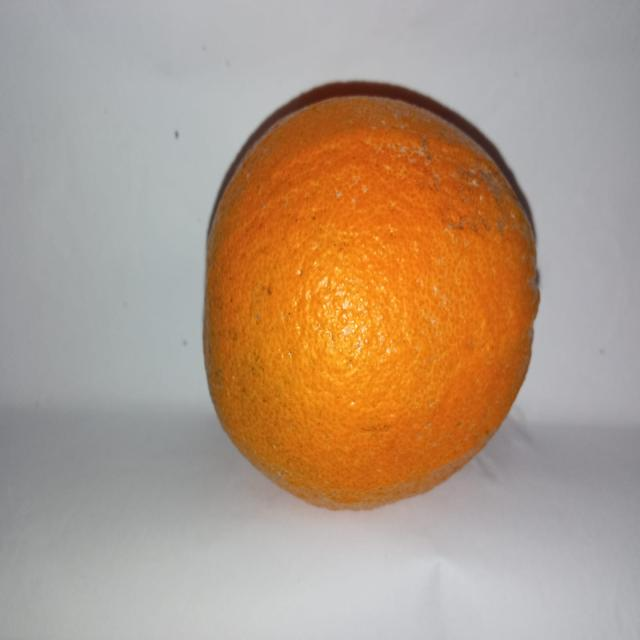fresh_orange: (200, 89, 540, 510)
